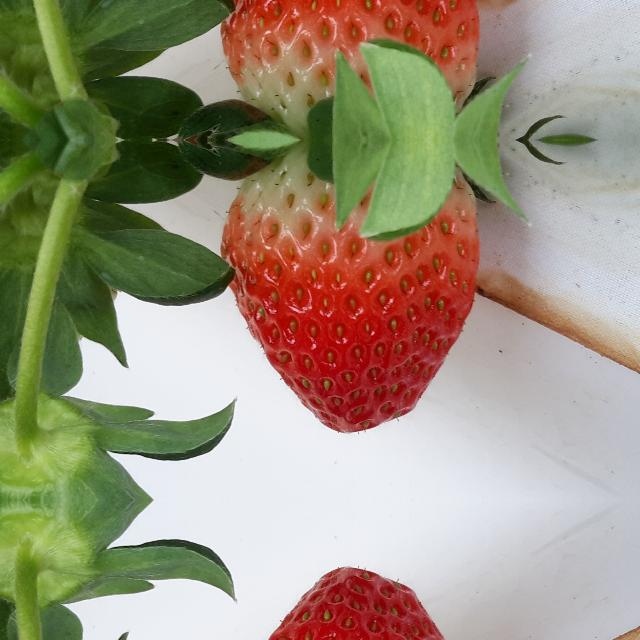Health_100: (219, 148, 479, 432), (219, 0, 479, 131), (219, 568, 479, 640)
